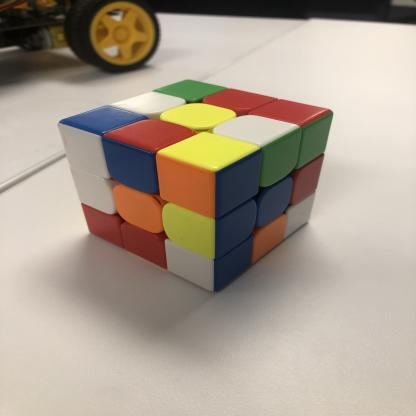UnsolvedCube: (53, 71, 347, 298)
